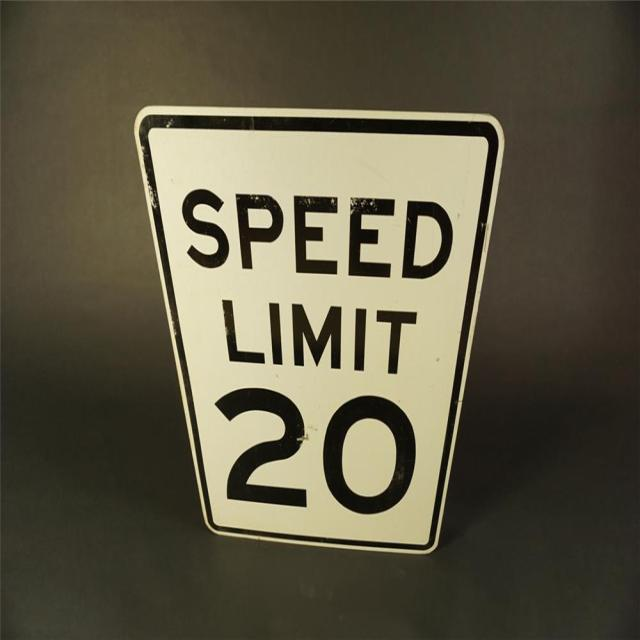speedLimit20: (132, 102, 507, 569)
